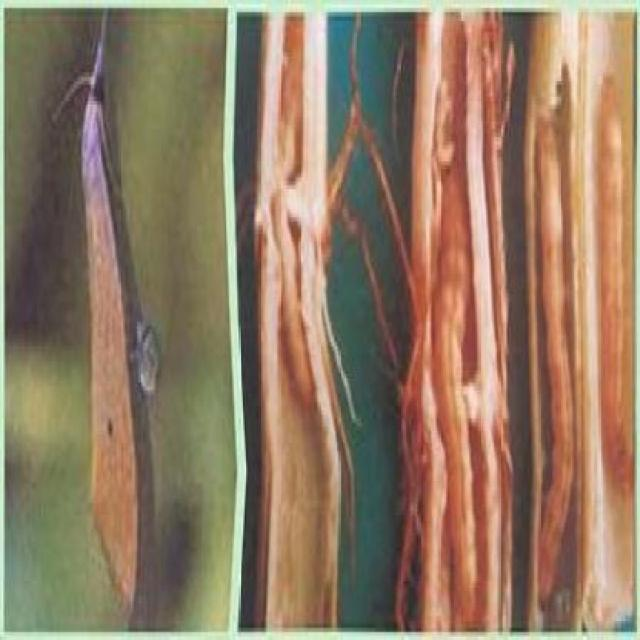stem-borer: (77, 8, 138, 626)
